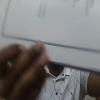notebook: (0, 0, 99, 76)
